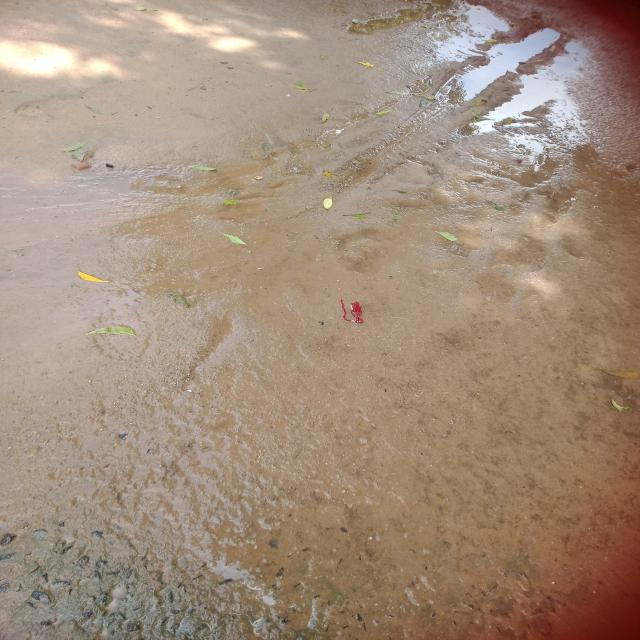potholes: (0, 477, 306, 640)
